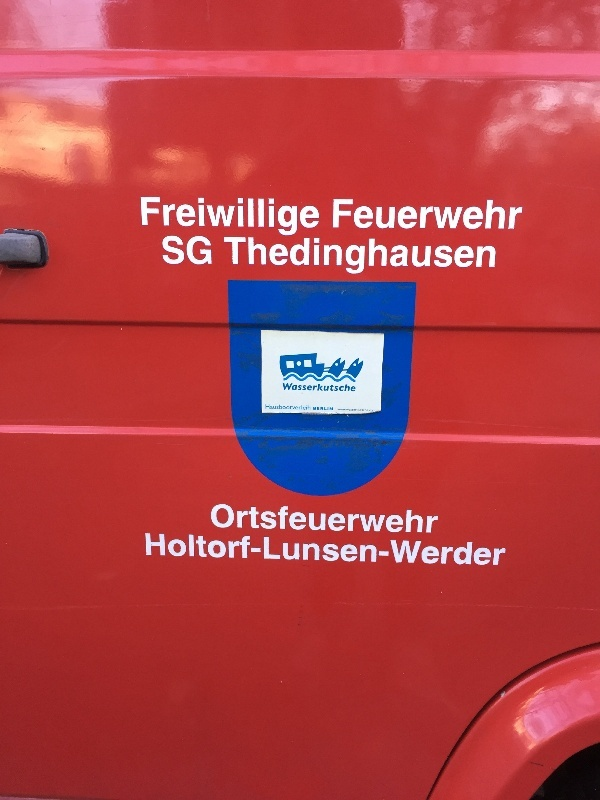text: (145, 196, 160, 237), (161, 196, 176, 237), (177, 196, 192, 237), (193, 196, 208, 237), (209, 196, 224, 237), (225, 196, 240, 237), (241, 196, 256, 237), (257, 196, 272, 237), (273, 196, 288, 237), (289, 196, 304, 237), (305, 196, 320, 237), (145, 533, 160, 569), (161, 533, 176, 569), (177, 533, 192, 569), (193, 533, 208, 569), (209, 533, 224, 569), (225, 533, 240, 569), (241, 533, 256, 569), (257, 533, 272, 569), (273, 533, 288, 569), (289, 533, 304, 569), (305, 533, 320, 569), (321, 533, 336, 569), (337, 533, 352, 569), (353, 533, 368, 569), (369, 533, 384, 569), (385, 533, 400, 569), (401, 533, 416, 569), (417, 533, 432, 569), (433, 533, 448, 569), (449, 533, 464, 569), (465, 533, 480, 569), (481, 533, 496, 569), (481, 238, 497, 269), (177, 234, 192, 267), (193, 234, 208, 267), (225, 504, 240, 535), (241, 504, 256, 535), (257, 504, 272, 535), (273, 504, 288, 535), (289, 504, 304, 535), (305, 504, 320, 535), (321, 504, 336, 535), (337, 504, 352, 535), (353, 504, 368, 535), (369, 504, 384, 535), (385, 504, 400, 535), (401, 504, 416, 535), (417, 504, 432, 535), (225, 238, 240, 269), (241, 238, 256, 269), (257, 238, 272, 269), (273, 238, 288, 269), (289, 238, 304, 269), (305, 238, 320, 269), (321, 238, 336, 269), (337, 238, 352, 269), (353, 238, 368, 269), (369, 238, 384, 269), (385, 238, 400, 269), (401, 238, 416, 269), (417, 238, 432, 269), (433, 238, 448, 269), (449, 238, 464, 269), (465, 238, 480, 269), (337, 199, 352, 230), (353, 199, 368, 230), (369, 199, 384, 230), (385, 199, 400, 230), (401, 199, 416, 230), (417, 199, 432, 230), (433, 199, 448, 230), (449, 199, 464, 230), (465, 199, 480, 230), (481, 199, 496, 230), (497, 199, 512, 230), (162, 234, 176, 267), (211, 504, 224, 535), (497, 533, 508, 569), (513, 199, 524, 230), (433, 504, 439, 535), (289, 383, 304, 392), (305, 383, 320, 392), (321, 383, 336, 392), (337, 383, 352, 392), (141, 196, 144, 237), (209, 234, 212, 267), (273, 404, 288, 410), (289, 404, 304, 410), (334, 199, 336, 230), (321, 407, 333, 411), (353, 409, 368, 412), (283, 383, 288, 392), (338, 409, 352, 412), (266, 404, 272, 410), (305, 404, 311, 410), (313, 407, 320, 411), (353, 383, 356, 392), (369, 409, 376, 412)
